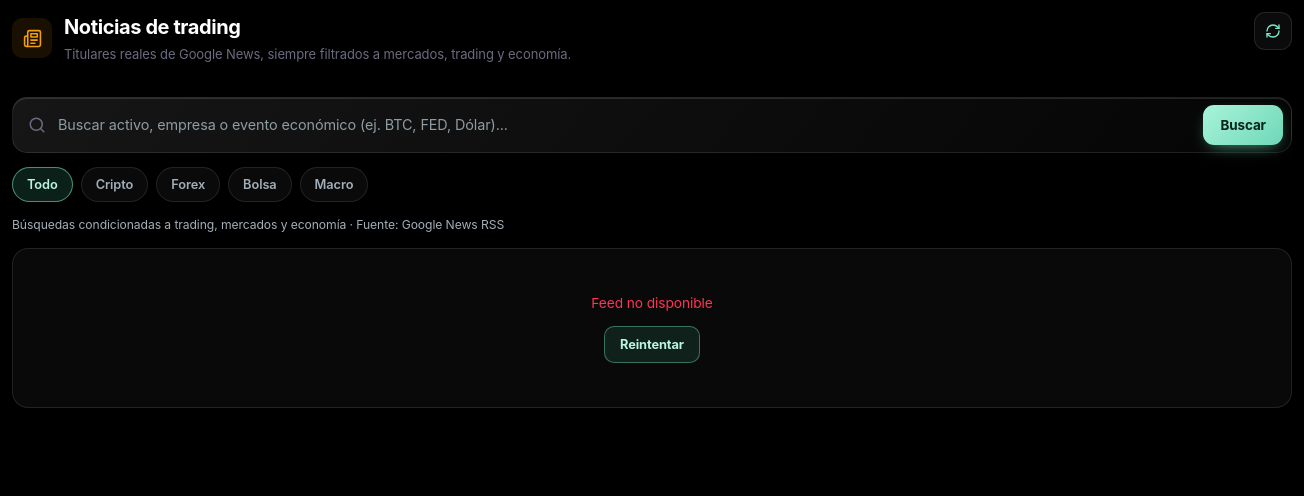
Portal de noticias financieras › muestra un error con reintento cuando falla el feed
The width and height of the screenshot is (1304, 496).
Check: the message shows "Feed no disponible", box top-left (591, 295), bottom-right (713, 311)
Click the button "Reintentar". click: (652, 344)
box: top-left (604, 326), bottom-right (700, 363)
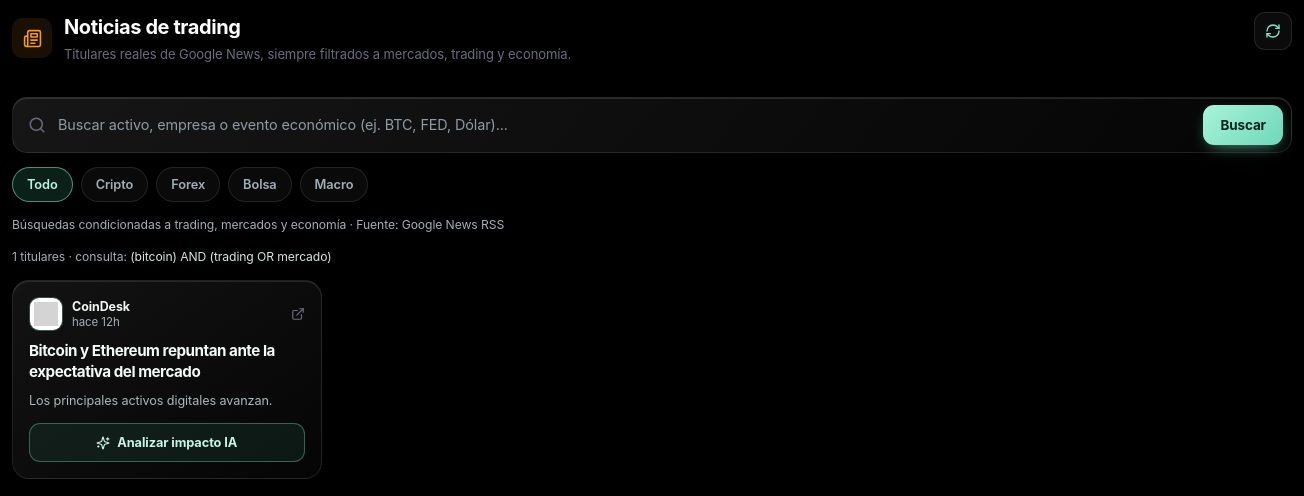
Check: the link "Bitcoin y Ethereum repuntan ante la expectativa del mercado" is shown, box top-left (29, 341), bottom-right (275, 381)
